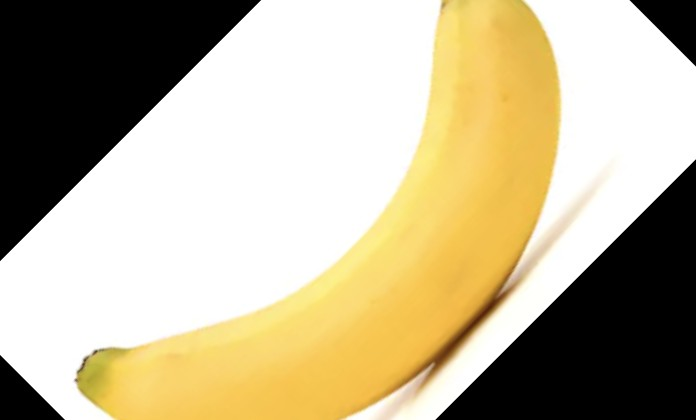fresh_banana: (76, 1, 562, 420)
